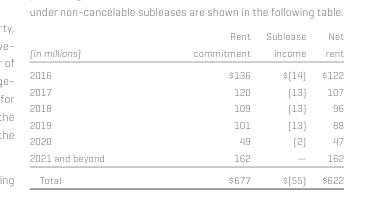table: (28, 29, 342, 185)
table column: (28, 29, 148, 185), (148, 29, 257, 185), (257, 29, 313, 185), (313, 29, 342, 185)
table column header: (28, 29, 342, 63)
table row: (28, 29, 342, 63), (28, 148, 342, 168), (28, 63, 342, 82), (28, 82, 342, 99), (28, 115, 342, 132), (28, 168, 342, 185), (28, 99, 342, 115), (28, 132, 342, 148)
